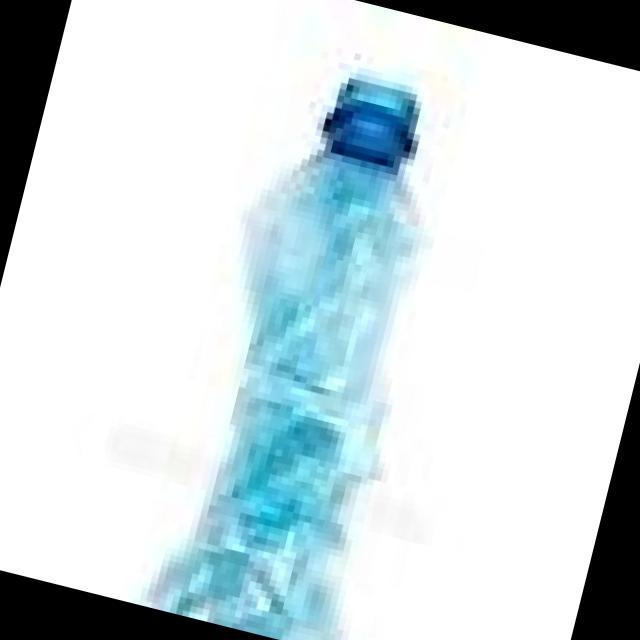defected: (112, 23, 516, 640)
